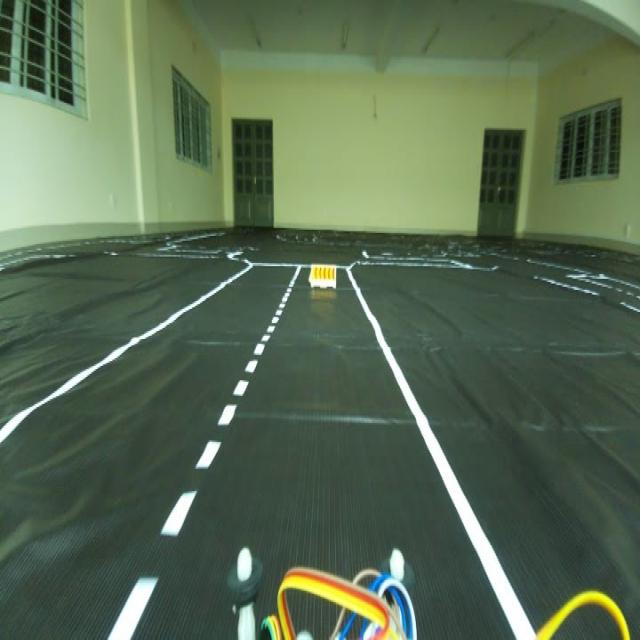roadblock: (304, 250, 342, 309)
